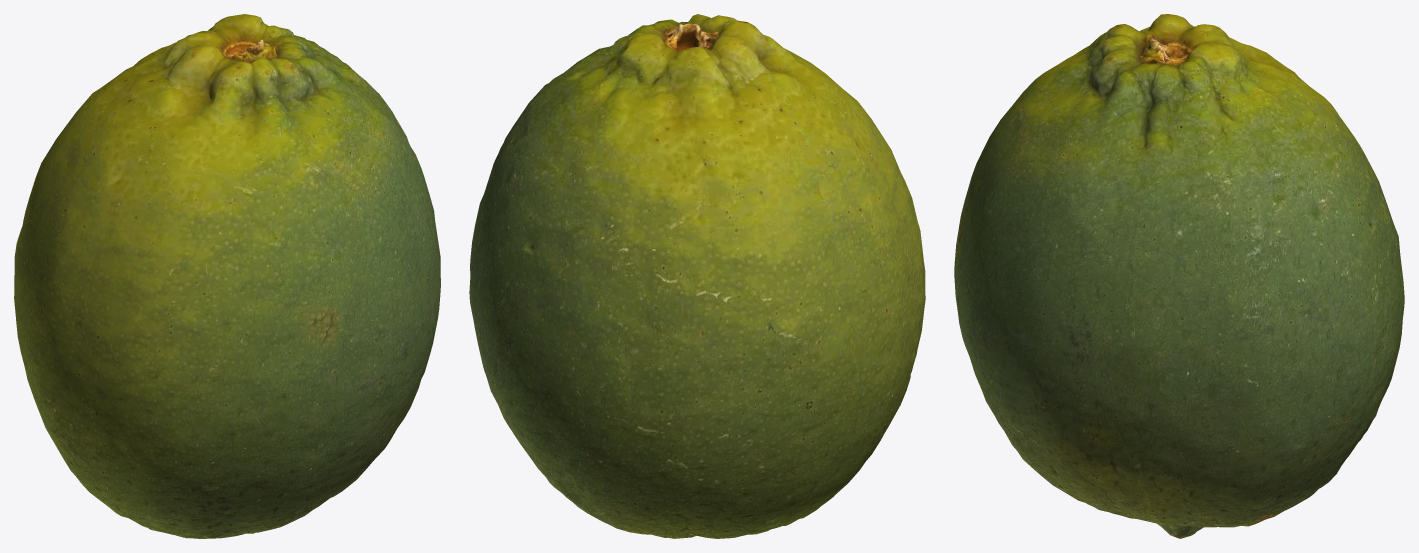
Rendered from food_lime_01.glb.
The picture shows the model from 3 angles, left to right: view 1: azimuth 30°, elevation 25°; view 2: azimuth 150°, elevation 25°; view 3: azimuth 270°, elevation 25°; orthographic projection.
Visible parts, largest first — view 1: food_lime_01; view 2: food_lime_01; view 3: food_lime_01.
Part boxes in pixels (box(x1,y1,x2,y2)): food_lime_01: box(14, 14, 440, 538); food_lime_01: box(469, 14, 925, 538); food_lime_01: box(954, 14, 1404, 538).
Size of the model in its own units: 0.0601 by 0.0754 by 0.0613.
Materials: 1 (1 with a texture image).
